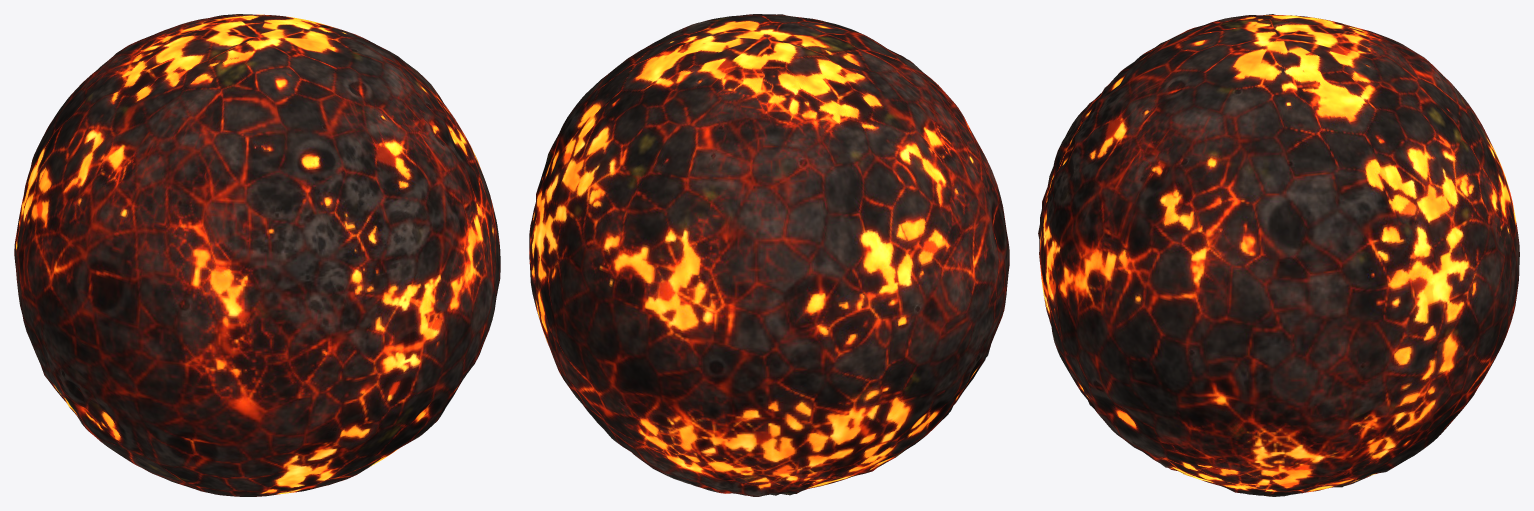
The model's file is planet_low.glb.
3 renders of one model, left to right at view 1: azimuth 30°, elevation 25°; view 2: azimuth 150°, elevation 25°; view 3: azimuth 270°, elevation 25°, orthographic.
Parts seen in each view (by area): view 1: Planet; view 2: Planet; view 3: Planet.
Part boxes in pixels (x1,y1,x2,y2): Planet: (14, 14, 500, 496); Planet: (529, 14, 1009, 496); Planet: (1038, 14, 1519, 496).
Bounding box in the file's own units: 4.08 × 4.03 × 4.03.
1 material, 1 textured.
